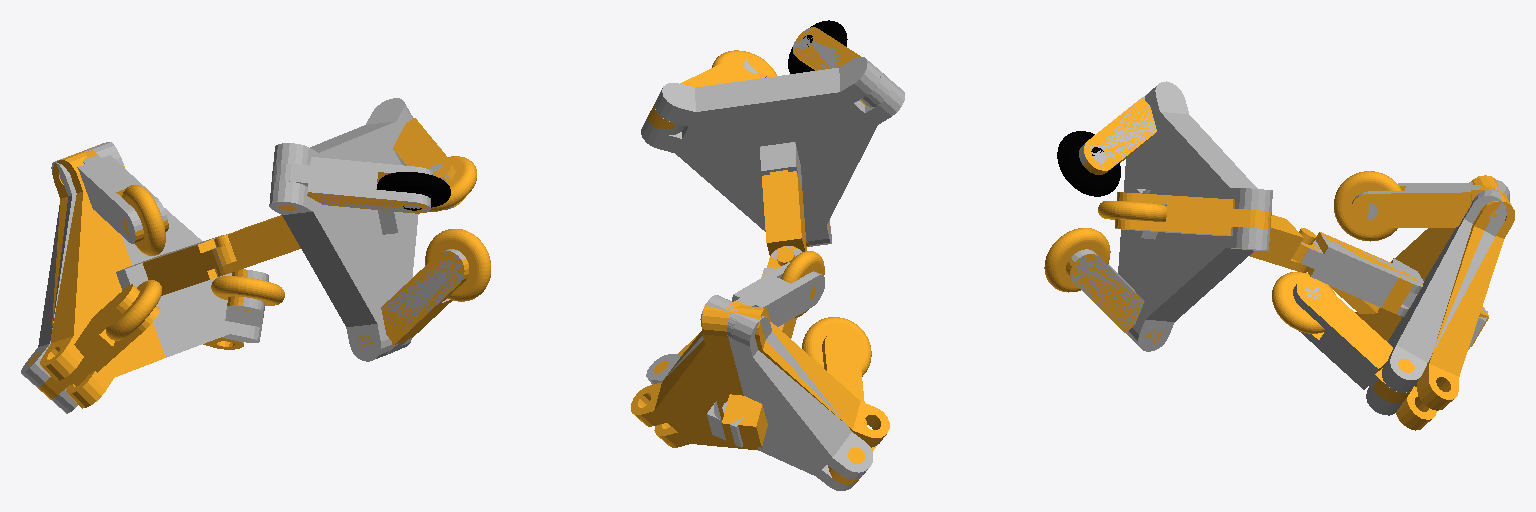
--- Facts derived from the render (not from the file) ---
The picture shows the robot from 3 angles, left to right: view 1: azimuth 30°, elevation 25°; view 2: azimuth 150°, elevation 25°; view 3: azimuth 270°, elevation 25°; orthographic projection.
Robot: robot_description — 31 links, 30 joints (23 revolute, 6 continuous, 1 fixed); root link base_link; default pose: all joints at 0.
Links seen in each view (by area): view 1: base_up, sworzen5, sworzen1, base_link, ramie1_sworzen, sworzen_ramie4, ramie5, ramie_ruch2, ramie_ruch1, ramie2, kolo2, ramie3 (+8 smaller); view 2: base_up, base_link, sworzen5, sworzen1, sworzen_ramie4, ramie_ruch1, ramie3, kolo5, ramie5, ramie1, sworzen_ramie5, ramie1_sworzen (+3 smaller); view 3: base_up, base_link, sworzen1, sworzen5, ramie3, ramie4, sworzen_ramie_ruch2, ramie6, sworzen_ramie6, kolo4, kolo2, kolo1 (+9 smaller).
Boxes of the visible links, <box> form: base_up: <box>40,143,243,408</box>; sworzen5: <box>21,142,261,413</box>; sworzen1: <box>269,98,408,358</box>; base_link: <box>269,102,418,361</box>; ramie1_sworzen: <box>271,157,433,212</box>; sworzen_ramie4: <box>77,149,167,243</box>; ramie5: <box>27,284,159,399</box>; ramie_ruch2: <box>138,235,236,295</box>; ramie_ruch1: <box>216,215,300,276</box>; ramie2: <box>358,251,468,351</box>; kolo2: <box>425,229,490,301</box>; ramie3: <box>393,118,465,206</box>; base_up: <box>631,304,889,451</box>; base_link: <box>641,57,904,246</box>; sworzen5: <box>646,295,872,490</box>; sworzen1: <box>641,60,904,231</box>; sworzen_ramie4: <box>724,262,824,337</box>; ramie_ruch1: <box>762,158,806,250</box>; ramie3: <box>648,54,768,128</box>; kolo5: <box>802,317,871,376</box>; ramie5: <box>822,329,865,484</box>; ramie1: <box>793,27,875,106</box>; sworzen_ramie5: <box>822,329,866,484</box>; ramie1_sworzen: <box>793,28,891,107</box>; base_up: <box>1355,175,1514,430</box>; base_link: <box>1128,81,1266,345</box>; sworzen1: <box>1118,86,1272,351</box>; sworzen5: <box>1366,180,1509,415</box>; ramie3: <box>1115,192,1271,249</box>; ramie4: <box>1351,186,1499,228</box>; sworzen_ramie_ruch2: <box>1301,236,1422,316</box>; ramie6: <box>1297,277,1414,402</box>; sworzen_ramie6: <box>1293,284,1406,392</box>; kolo4: <box>1334,171,1401,241</box>; kolo2: <box>1044,228,1110,292</box>; kolo1: <box>1057,131,1120,196</box>.
Size in the robot's own frame: 0.2983 by 0.3894 by 0.2969 metres.
Meshes: 31 distinct files referenced, 31 mesh visuals loaded (31 binary STL).

robot.urdf — robot_description:
<robot
  name="robot_description">
  <link
    name="base_link">
    <inertial>
      <origin
        xyz="0.078275 -0.034869 -0.0048269"
        rpy="0 0 0" />
      <mass
        value="0.65449" />
      <inertia
        ixx="7.9164E-06"
        ixy="-1.7628E-06"
        ixz="-3.9464E-06"
        iyy="9.5004E-06"
        iyz="-2.9238E-06"
        izz="4.1674E-06" />
    </inertial>
    <visual>
      <origin
        xyz="0 0 0"
        rpy="0 0 0" />
      <geometry>
        <mesh
          filename="package://robot_description/meshes/base_link.STL" />
      </geometry>
      <material
        name="">
        <color
          rgba="0.74902 0.74902 0.74902 1" />
      </material>
    </visual>
    <collision>
      <origin
        xyz="0 0 0"
        rpy="0 0 0" />
      <geometry>
        <mesh
          filename="package://robot_description/meshes/base_link.STL" />
      </geometry>
    </collision>
  </link>
  <link
    name="sworzen1">
    <inertial>
      <origin
        xyz="-0.00072575 0.00079945 0.0011536"
        rpy="0 0 0" />
      <mass
        value="0.66332" />
      <inertia
        ixx="7.6167E-05"
        ixy="7.7219E-07"
        ixz="-3.8815E-05"
        iyy="8.8837E-05"
        iyz="6.1173E-07"
        izz="3.3447E-05" />
    </inertial>
    <visual>
      <origin
        xyz="0 0 0"
        rpy="0 0 0" />
      <geometry>
        <mesh
          filename="package://robot_description/meshes/sworzen1.STL" />
      </geometry>
      <material
        name="">
        <color
          rgba="0.74902 0.74902 0.74902 1" />
      </material>
    </visual>
    <collision>
      <origin
        xyz="0 0 0"
        rpy="0 0 0" />
      <geometry>
        <mesh
          filename="package://robot_description/meshes/sworzen1.STL" />
      </geometry>
    </collision>
  </link>
  <joint
    name="sworzen1_joint"
    type="revolute">
    <origin
      xyz="0.078656 0.0046714 -0.033295"
      rpy="-1.0935 -1.209 1.6195" />
    <parent
      link="base_link" />
    <child
      link="sworzen1" />
    <axis
      xyz="0 0 0" />
    <limit
      lower="-1.57"
      upper="1.57"
      effort="0"
      velocity="0" />
  </joint>
  <link
    name="ramie1">
    <inertial>
      <origin
        xyz="0.039116 -0.016671 0.025"
        rpy="0 0 0" />
      <mass
        value="0.083887" />
      <inertia
        ixx="7.3546E-06"
        ixy="6.4402E-06"
        ixz="-2.9996E-18"
        iyy="1.9721E-05"
        iyz="1.2714E-18"
        izz="1.7856E-05" />
    </inertial>
    <visual>
      <origin
        xyz="0 0 0"
        rpy="0 0 0" />
      <geometry>
        <mesh
          filename="package://robot_description/meshes/ramie1.STL" />
      </geometry>
      <material
        name="">
        <color
          rgba="1 0.70196 0.18039 1" />
      </material>
    </visual>
    <collision>
      <origin
        xyz="0 0 0"
        rpy="0 0 0" />
      <geometry>
        <mesh
          filename="package://robot_description/meshes/ramie1.STL" />
      </geometry>
    </collision>
  </link>
  <joint
    name="ramie1_joint"
    type="revolute">
    <origin
      xyz="0.028349 0 0.099103"
      rpy="-2.3896 0.81672 -2.2328" />
    <parent
      link="sworzen1" />
    <child
      link="ramie1" />
    <axis
      xyz="0 0 0" />
    <limit
      lower="-1.57"
      upper="1.57"
      effort="0"
      velocity="0" />
  </joint>
  <link
    name="ramie1_sworzen">
    <inertial>
      <origin
        xyz="0.015 0.050989 -1.266E-14"
        rpy="0 0 0" />
      <mass
        value="0.080353" />
      <inertia
        ixx="1.8244E-05"
        ixy="-5.1486E-16"
        ixz="-7.0107E-17"
        iyy="4.6099E-06"
        iyz="-1.4312E-16"
        izz="1.3634E-05" />
    </inertial>
    <visual>
      <origin
        xyz="0 0 0"
        rpy="0 0 0" />
      <geometry>
        <mesh
          filename="package://robot_description/meshes/ramie1_sworzen.STL" />
      </geometry>
      <material
        name="">
        <color
          rgba="0.74902 0.74902 0.74902 1" />
      </material>
    </visual>
    <collision>
      <origin
        xyz="0 0 0"
        rpy="0 0 0" />
      <geometry>
        <mesh
          filename="package://robot_description/meshes/ramie1_sworzen.STL" />
      </geometry>
    </collision>
  </link>
  <joint
    name="ramie1_sworzen_joint"
    type="revolute">
    <origin
      xyz="0.005881 0.013799 0.025"
      rpy="-3.3307E-16 -9.992E-16 -1.9737" />
    <parent
      link="ramie1" />
    <child
      link="ramie1_sworzen" />
    <axis
      xyz="0 0 0" />
    <limit
      lower="-1.57"
      upper="1.57"
      effort="0"
      velocity="0" />
  </joint>
  <link
    name="kolo1">
    <inertial>
      <origin
        xyz="0.0075 -1.1102E-16 1.3878E-16"
        rpy="0 0 0" />
      <mass
        value="0.040766" />
      <inertia
        ixx="9.7492E-33"
        ixy="-3.8705E-32"
        ixz="4.7429E-32"
        iyy="3.903E-31"
        iyz="4.7755E-33"
        izz="3.8835E-31" />
    </inertial>
    <visual>
      <origin
        xyz="0 0 0"
        rpy="0 0 0" />
      <geometry>
        <mesh
          filename="package://robot_description/meshes/kolo1.STL" />
      </geometry>
      <material
        name="">
        <color
          rgba="0.019608 0.019608 0.019608 1" />
      </material>
    </visual>
    <collision>
      <origin
        xyz="0 0 0"
        rpy="0 0 0" />
      <geometry>
        <mesh
          filename="package://robot_description/meshes/kolo1.STL" />
      </geometry>
    </collision>
  </link>
  <joint
    name="kolo1_joint"
    type="continuous">
    <origin
      xyz="0.015 0.1 -0.0075"
      rpy="1.2654 -1.5708 0" />
    <parent
      link="ramie1_sworzen" />
    <child
      link="kolo1" />
    <axis
      xyz="0 0 0" />
  </joint>
  <link
    name="sworzen2">
    <inertial>
      <origin
        xyz="-0.00272380950321219 0.000799447417495533 2.44942954807925E-14"
        rpy="0 0 0" />
      <mass
        value="0.663324587071708" />
      <inertia
        ixx="1.0781283135998E-05"
        ixy="-2.87368565427112E-07"
        ixz="2.62257705854166E-16"
        iyy="8.51479121796059E-05"
        iyz="-9.3770274206019E-16"
        izz="9.51428553386611E-05" />
    </inertial>
    <visual>
      <origin
        xyz="0 0 0"
        rpy="0 0 0" />
      <geometry>
        <mesh
          filename="package://robot_description/meshes/sworzen2.STL" />
      </geometry>
      <material
        name="">
        <color
          rgba="0.749019607843137 0.749019607843137 0.749019607843137 1" />
      </material>
    </visual>
    <collision>
      <origin
        xyz="0 0 0"
        rpy="0 0 0" />
      <geometry>
        <mesh
          filename="package://robot_description/meshes/sworzen2.STL" />
      </geometry>
    </collision>
  </link>
  <joint
    name="sworzen2_joint"
    type="revolute">
    <origin
      xyz="0.078656 0.0046714 -0.033295"
      rpy="-1.0935 -1.209 1.6195" />
    <parent
      link="base_link" />
    <child
      link="sworzen2" />
    <axis
      xyz="0 0 0" />
    <limit
      lower="-1.57"
      upper="1.57"
      effort="0"
      velocity="0" />
  </joint>
  <link
    name="ramie2">
    <inertial>
      <origin
        xyz="0.0421192530367286 -0.00582961002139445 0.025000000000007"
        rpy="0 0 0" />
      <mass
        value="0.0838871669414958" />
      <inertia
        ixx="4.94549577563115E-06"
        ixy="2.42492929143536E-06"
        ixz="-2.93274570074961E-18"
        iyy="2.21301154817376E-05"
        iyz="4.03611199366674E-19"
        izz="1.78558752997074E-05" />
    </inertial>
    <visual>
      <origin
        xyz="0 0 0"
        rpy="0 0 0" />
      <geometry>
        <mesh
          filename="package://robot_description/meshes/ramie2.STL" />
      </geometry>
      <material
        name="">
        <color
          rgba="1 0.701960784313725 0.180392156862745 1" />
      </material>
    </visual>
    <collision>
      <origin
        xyz="0 0 0"
        rpy="0 0 0" />
      <geometry>
        <mesh
          filename="package://robot_description/meshes/ramie2.STL" />
      </geometry>
    </collision>
  </link>
  <joint
    name="ramie2_joint"
    type="revolute">
    <origin
      xyz="-0.1 0 -0.025"
      rpy="3.8858E-16 2.498E-16 -0.89513" />
    <parent
      link="sworzen2" />
    <child
      link="ramie2" />
    <axis
      xyz="0 0 0" />
    <limit
      lower="-1.57"
      upper="1.57"
      effort="0"
      velocity="0" />
  </joint>
  <link
    name="ramie2_sworzen">
    <inertial>
      <origin
        xyz="0.0149999999998696 0.0509887247958938 7.81041897823798E-14"
        rpy="0 0 0" />
      <mass
        value="0.0803528752062073" />
      <inertia
        ixx="1.82440178904883E-05"
        ixy="-5.25535980530655E-16"
        ixz="1.69313204068425E-15"
        iyy="4.60986798277215E-06"
        iyz="2.91141635234656E-16"
        izz="1.36341499136656E-05" />
    </inertial>
    <visual>
      <origin
        xyz="0 0 0"
        rpy="0 0 0" />
      <geometry>
        <mesh
          filename="package://robot_description/meshes/ramie2_sworzen.STL" />
      </geometry>
      <material
        name="">
        <color
          rgba="0.749019607843137 0.749019607843137 0.749019607843137 1" />
      </material>
    </visual>
    <collision>
      <origin
        xyz="0 0 0"
        rpy="0 0 0" />
      <geometry>
        <mesh
          filename="package://robot_description/meshes/ramie2_sworzen.STL" />
      </geometry>
    </collision>
  </link>
  <joint
    name="ramie2_sworzen_joint"
    type="revolute">
    <origin
      xyz="0.0020565 0.014858 0.025"
      rpy="4.4409E-16 -1.0547E-15 -1.7083" />
    <parent
      link="ramie2" />
    <child
      link="ramie2_sworzen" />
    <axis
      xyz="0 0 0" />
    <limit
      lower="-1.57"
      upper="1.57"
      effort="0"
      velocity="0" />
  </joint>
  <link
    name="kolo2">
    <inertial>
      <origin
        xyz="3.95516952522712E-15 3.99680288865056E-15 0.0150000000000207"
        rpy="0 0 0" />
      <mass
        value="0.0407655519524368" />
      <inertia
        ixx="2.69854716272748E-30"
        ixy="-9.61630206689141E-32"
        ixz="-4.96191017407152E-31"
        iyy="2.69552169443467E-30"
        iyz="-5.04057980394581E-31"
        izz="1.92354047984905E-31" />
    </inertial>
    <visual>
      <origin
        xyz="0 0 0"
        rpy="0 0 0" />
      <geometry>
        <mesh
          filename="package://robot_description/meshes/kolo2.STL" />
      </geometry>
      <material
        name="">
        <color
          rgba="1 0.701960784313725 0.180392156862745 1" />
      </material>
    </visual>
    <collision>
      <origin
        xyz="0 0 0"
        rpy="0 0 0" />
      <geometry>
        <mesh
          filename="package://robot_description/meshes/kolo2.STL" />
      </geometry>
    </collision>
  </link>
  <joint
    name="kolo2_joint"
    type="continuous">
    <origin
      xyz="0.015 0.1 -0.015"
      rpy="-6.4948E-15 1.3323E-15 -2.0595" />
    <parent
      link="ramie2_sworzen" />
    <child
      link="kolo2" />
    <axis
      xyz="0 0 0" />
  </joint>
  <link
    name="sworzen3">
    <inertial>
      <origin
        xyz="-0.000725753910875128 0.00079944741749554 -0.00115357793406713"
        rpy="0 0 0" />
      <mass
        value="0.663324587071708" />
      <inertia
        ixx="7.61665392518774E-05"
        ixy="7.72186584742255E-07"
        ixz="3.88151747695803E-05"
        iyy="8.88371095580954E-05"
        iyz="-6.11734452109273E-07"
        izz="3.34467966012712E-05" />
    </inertial>
    <visual>
      <origin
        xyz="0 0 0"
        rpy="0 0 0" />
      <geometry>
        <mesh
          filename="package://robot_description/meshes/sworzen3.STL" />
      </geometry>
      <material
        name="">
        <color
          rgba="0.749019607843137 0.749019607843137 0.749019607843137 1" />
      </material>
    </visual>
    <collision>
      <origin
        xyz="0 0 0"
        rpy="0 0 0" />
      <geometry>
        <mesh
          filename="package://robot_description/meshes/sworzen3.STL" />
      </geometry>
    </collision>
  </link>
  <joint
    name="sworzen3_joint"
    type="revolute">
    <origin
      xyz="0.078656 0.0046714 -0.033295"
      rpy="-1.0935 -1.209 1.6195" />
    <parent
      link="base_link" />
    <child
      link="sworzen3" />
    <axis
      xyz="0 0 0" />
    <limit
      lower="-1.57"
      upper="1.57"
      effort="0"
      velocity="0" />
  </joint>
  <link
    name="ramie3">
    <inertial>
      <origin
        xyz="0.036910735631314 0.021109557658291 0.0250000000000001"
        rpy="0 0 0" />
      <mass
        value="0.0838871669414958" />
      <inertia
        ixx="9.01072421641597E-06"
        ixy="-7.69503765851921E-06"
        ixz="1.64112633530521E-21"
        iyy="1.80648870409523E-05"
        iyz="-1.95082275664506E-20"
        izz="1.78558752997069E-05" />
    </inertial>
    <visual>
      <origin
        xyz="0 0 0"
        rpy="0 0 0" />
      <geometry>
        <mesh
          filename="package://robot_description/meshes/ramie3.STL" />
      </geometry>
      <material
        name="">
        <color
          rgba="1 0.701960784313725 0.180392156862745 1" />
      </material>
    </visual>
    <collision>
      <origin
        xyz="0 0 0"
        rpy="0 0 0" />
      <geometry>
        <mesh
          filename="package://robot_description/meshes/ramie3.STL" />
      </geometry>
    </collision>
  </link>
  <joint
    name="ramie3_joint"
    type="revolute">
    <origin
      xyz="0.028349 0 -0.099103"
      rpy="-0.41636 -0.99237 -2.6557" />
    <parent
      link="sworzen3" />
    <child
      link="ramie3" />
    <axis
      xyz="0 0 0" />
    <limit
      lower="-1.57"
      upper="1.57"
      effort="0"
      velocity="0" />
  </joint>
  <link
    name="ramie3_sworzen">
    <inertial>
      <origin
        xyz="0.0149999999998713 0.0509887247959366 -6.72517597166689E-14"
        rpy="0 0 0" />
      <mass
        value="0.0803528752062073" />
      <inertia
        ixx="1.82440178901915E-05"
        ixy="4.49395024231664E-16"
        ixz="-1.42210268662145E-15"
        iyy="4.60986798242077E-06"
        iyz="2.31757796428992E-16"
        izz="1.36341499135455E-05" />
    </inertial>
    <visual>
      <origin
        xyz="0 0 0"
        rpy="0 0 0" />
      <geometry>
        <mesh
          filename="package://robot_description/meshes/ramie3_sworzen.STL" />
      </geometry>
      <material
        name="">
        <color
          rgba="0.749019607843137 0.749019607843137 0.749019607843137 1" />
      </material>
    </visual>
    <collision>
      <origin
        xyz="0 0 0"
        rpy="0 0 0" />
      <geometry>
        <mesh
          filename="package://robot_description/meshes/ramie3_sworzen.STL" />
      </geometry>
    </collision>
  </link>
  <joint
    name="ramie3_sworzen_joint"
    type="revolute">
    <origin
      xyz="0.0074468 -0.013021 0.025"
      rpy="3.1416 1.1328E-15 2.0903" />
    <parent
      link="ramie3" />
    <child
      link="ramie3_sworzen" />
    <axis
      xyz="0 0 0" />
    <limit
      lower="-1.57"
      upper="1.57"
      effort="0"
      velocity="0" />
  </joint>
  <link
    name="kolo3">
    <inertial>
      <origin
        xyz="1.2490009027033E-16 -5.55111512312578E-17 0.015000000000006"
        rpy="0 0 0" />
      <mass
        value="0.0407655519524369" />
      <inertia
        ixx="2.18424991966655E-31"
        ixy="5.43344684551267E-35"
        ixz="-5.68002756726361E-33"
        iyy="2.18563956931501E-31"
        iyz="2.34986981921875E-33"
        izz="1.94384518096186E-34" />
    </inertial>
    <visual>
      <origin
        xyz="0 0 0"
        rpy="0 0 0" />
      <geometry>
        <mesh
          filename="package://robot_description/meshes/kolo3.STL" />
      </geometry>
      <material
        name="">
        <color
          rgba="1 0.701960784313725 0.180392156862745 1" />
      </material>
    </visual>
    <collision>
      <origin
        xyz="0 0 0"
        rpy="0 0 0" />
      <geometry>
        <mesh
          filename="package://robot_description/meshes/kolo3.STL" />
      </geometry>
    </collision>
  </link>
  <joint
    name="kolo3_joint"
    type="continuous">
    <origin
      xyz="0.015 0.1 0.015"
      rpy="-3.1416 3.1572E-16 0.26592" />
    <parent
      link="ramie3_sworzen" />
    <child
      link="kolo3" />
    <axis
      xyz="0 0 0" />
  </joint>
  <link
    name="ramie_gora">
    <inertial>
      <origin
        xyz="-0.00139922773445356 0.00104478083575374 2.46191955710628E-14"
        rpy="0 0 0" />
      <mass
        value="0.65979029533642" />
      <inertia
        ixx="1.52563131405609E-05"
        ixy="1.92510488351944E-07"
        ixz="2.85446503334673E-16"
        iyy="4.20152907733352E-07"
        iyz="-9.3342624476307E-16"
        izz="1.48901260713515E-05" />
    </inertial>
    <visual>
      <origin
        xyz="0 0 0"
        rpy="0 0 0" />
      <geometry>
        <mesh
          filename="package://robot_description/meshes/ramie_gora.STL" />
      </geometry>
      <material
        name="">
        <color
          rgba="0.749019607843137 0.749019607843137 0.749019607843137 1" />
      </material>
    </visual>
    <collision>
      <origin
        xyz="0 0 0"
        rpy="0 0 0" />
      <geometry>
        <mesh
          filename="package://robot_description/meshes/ramie_gora.STL" />
      </geometry>
    </collision>
  </link>
  <joint
    name="ramie_gora_joint"
    type="fixed">
    <origin
      xyz="0.078656 0.0046714 -0.033295"
      rpy="-1.0935 -1.209 1.6195" />
    <parent
      link="base_link" />
    <child
      link="ramie_gora" />
    <axis
      xyz="0 0 0" />
  </joint>
  <link
    name="ramie_ruch1">
    <inertial>
      <origin
        xyz="-0.0249903327813365 -0.0362608136338515 0.0150000000000007"
        rpy="0 0 0" />
      <mass
        value="0.0824025158054101" />
      <inertia
        ixx="7.44987118581313E-06"
        ixy="-5.13432384588075E-06"
        ixz="-5.61159327555974E-19"
        iyy="3.53848820970215E-06"
        iyz="-5.1086674631275E-19"
        izz="1.09883593954399E-05" />
    </inertial>
    <visual>
      <origin
        xyz="0 0 0"
        rpy="0 0 0" />
      <geometry>
        <mesh
          filename="package://robot_description/meshes/ramie_ruch1.STL" />
      </geometry>
      <material
        name="">
        <color
          rgba="1 0.701960784313725 0.180392156862745 1" />
      </material>
    </visual>
    <collision>
      <origin
        xyz="0 0 0"
        rpy="0 0 0" />
      <geometry>
        <mesh
          filename="package://robot_description/meshes/ramie_ruch1.STL" />
      </geometry>
    </collision>
  </link>
  <joint
    name="ramie_ruch1_joint"
    type="revolute">
    <origin
      xyz="0 0.03 -0.015"
      rpy="3.0531E-16 -9.4369E-16 -2.341" />
    <parent
      link="ramie_gora" />
    <child
      link="ramie_ruch1" />
    <axis
      xyz="0 0 0" />
    <limit
      lower="-1.57"
      upper="1.57"
      effort="0"
      velocity="0" />
  </joint>
  <link
    name="sworzen_ramie_ruch">
    <inertial>
      <origin
        xyz="0.0483232563870525 -0.0108797811524379 0.0156417163692359"
        rpy="0 0 0" />
      <mass
        value="0.0824025158054101" />
      <inertia
        ixx="6.73011138679717E-07"
        ixy="2.97885954380119E-06"
        ixz="-1.75700494717498E-07"
        iyy="1.32331318644119E-05"
        iyz="3.95582391133261E-08"
        izz="1.39014765177605E-05" />
    </inertial>
    <visual>
      <origin
        xyz="0 0 0"
        rpy="0 0 0" />
      <geometry>
        <mesh
          filename="package://robot_description/meshes/sworzen_ramie_ruch.STL" />
      </geometry>
      <material
        name="">
        <color
          rgba="1 0.701960784313725 0.180392156862745 1" />
      </material>
    </visual>
    <collision>
      <origin
        xyz="0 0 0"
        rpy="0 0 0" />
      <geometry>
        <mesh
          filename="package://robot_description/meshes/sworzen_ramie_ruch.STL" />
      </geometry>
    </collision>
  </link>
  <joint
    name="sworzen_ramie_ruch_joint"
    type="revolute">
    <origin
      xyz="-0.070166 -0.072813 0.015"
      rpy="1.5708 -0.22145 0.95279" />
    <parent
      link="ramie_ruch1" />
    <child
      link="sworzen_ramie_ruch" />
    <axis
      xyz="0 0 0" />
    <limit
      lower="-1.57"
      upper="1.57"
      effort="0"
      velocity="0" />
  </joint>
  <link
    name="ramie_ruch2">
    <inertial>
      <origin
        xyz="-0.046866107452409 -0.00291694979257964 0.0150000000000038"
        rpy="0 0 0" />
      <mass
        value="0.0871028752062767" />
      <inertia
        ixx="4.64936202969211E-06"
        ixy="-7.71708079081837E-07"
        ixz="5.05339856331916E-18"
        iyy="1.70002257134525E-05"
        iyz="-1.41115689012566E-18"
        izz="1.24469260129605E-05" />
    </inertial>
    <visual>
      <origin
        xyz="0 0 0"
        rpy="0 0 0" />
      <geometry>
        <mesh
          filename="package://robot_description/meshes/ramie_ruch2.STL" />
      </geometry>
      <material
        name="">
        <color
          rgba="1 0.701960784313725 0.180392156862745 1" />
      </material>
    </visual>
    <collision>
      <origin
        xyz="0 0 0"
        rpy="0 0 0" />
      <geometry>
        <mesh
          filename="package://robot_description/meshes/ramie_ruch2.STL" />
      </geometry>
    </collision>
  </link>
  <joint
    name="ramie_ruch2_joint"
    type="revolute">
    <origin
      xyz="0 0 0"
      rpy="-5.5511E-17 0 -5.5511E-17" />
    <parent
      link="sworzen_ramie_ruch" />
    <child
      link="ramie_ruch2" />
    <axis
      xyz="0 0 0" />
    <limit
      lower="-1.57"
      upper="1.57"
      effort="0"
      velocity="0" />
  </joint>
  <link
    name="sworzen_ramie_ruch2">
    <inertial>
      <origin
        xyz="0.0150000000000238 0.0530432047106913 -1.14491749414469E-15"
        rpy="0 0 0" />
      <mass
        value="0.0871028752062767" />
      <inertia
        ixx="1.70482568781018E-05"
        ixy="7.00898588029252E-18"
        ixz="-1.71778281703172E-18"
        iyy="4.60133086509205E-06"
        iyz="-3.26245327546834E-18"
        izz="1.24469260130097E-05" />
    </inertial>
    <visual>
      <origin
        xyz="0 0 0"
        rpy="0 0 0" />
      <geometry>
        <mesh
          filename="package://robot_description/meshes/sworzen_ramie_ruch2.STL" />
      </geometry>
      <material
        name="">
        <color
          rgba="0.749019607843137 0.749019607843137 0.749019607843137 1" />
      </material>
    </visual>
    <collision>
      <origin
        xyz="0 0 0"
        rpy="0 0 0" />
      <geometry>
        <mesh
          filename="package://robot_description/meshes/sworzen_ramie_ruch2.STL" />
      </geometry>
    </collision>
  </link>
  <joint
    name="sworzen_ramie_ruch2_joint"
    type="revolute">
    <origin
      xyz="0.0009318 -0.014971 0.015"
      rpy="3.7192E-15 3.4694E-16 1.633" />
    <parent
      link="ramie_ruch2" />
    <child
      link="sworzen_ramie_ruch2" />
    <axis
      xyz="0 0 0" />
    <limit
      lower="-1.57"
      upper="1.57"
      effort="0"
      velocity="0" />
  </joint>
  <link
    name="base_up">
    <inertial>
      <origin
        xyz="-0.00548186963420297 -0.0300670324386722 0.0136007722655658"
        rpy="0 0 0" />
      <mass
        value="0.659790295336421" />
      <inertia
        ixx="1.49194628856763E-05"
        ixy="-2.64353747783547E-06"
        ixz="-1.14360431468133E-07"
        iyy="9.0212690323311E-07"
        iyz="-6.27245636862381E-07"
        izz="1.57676239492155E-05" />
    </inertial>
    <visual>
      <origin
        xyz="0 0 0"
        rpy="0 0 0" />
      <geometry>
        <mesh
          filename="package://robot_description/meshes/base_up.STL" />
      </geometry>
      <material
        name="">
        <color
          rgba="1 0.701960784313725 0.180392156862745 1" />
      </material>
    </visual>
    <collision>
      <origin
        xyz="0 0 0"
        rpy="0 0 0" />
      <geometry>
        <mesh
          filename="package://robot_description/meshes/base_up.STL" />
      </geometry>
    </collision>
  </link>
  <joint
    name="base_up_joint"
    type="revolute">
    <origin
      xyz="0.015 0.1 -0.015"
      rpy="-2.2204E-16 -9.7838E-16 -2.9613" />
    <parent
      link="sworzen_ramie_ruch2" />
    <child
      link="base_up" />
    <axis
      xyz="0 0 0" />
    <limit
      lower="-1.57"
      upper="1.57"
      effort="0"
      velocity="0" />
  </joint>
  <link
    name="sworzen5">
    <inertial>
      <origin
        xyz="-0.000725753910907526 0.000799447417343724 0.00115357793405303"
        rpy="0 0 0" />
      <mass
        value="0.66332458707171" />
      <inertia
        ixx="7.61665392990585E-05"
        ixy="7.72186574160441E-07"
        ixz="-3.88151747709922E-05"
        iyy="8.88371095594185E-05"
        iyz="6.11734441355368E-07"
        izz="3.34467966517728E-05" />
    </inertial>
    <visual>
      <origin
        xyz="0 0 0"
        rpy="0 0 0" />
      <geometry>
        <mesh
          filename="package://robot_description/meshes/sworzen5.STL" />
      </geometry>
      <material
        name="">
        <color
          rgba="0.749019607843137 0.749019607843137 0.749019607843137 1" />
      </material>
    </visual>
    <collision>
      <origin
        xyz="0 0 0"
        rpy="0 0 0" />
      <geometry>
        <mesh
          filename="package://robot_description/meshes/sworzen5.STL" />
      </geometry>
    </collision>
  </link>
  <joint
    name="sworzen5_joint"
    type="revolute">
    <origin
      xyz="-0.0053809 -0.029513 0.015"
      rpy="0.18034 -1.5708 0" />
    <parent
      link="base_up" />
    <child
      link="sworzen5" />
    <axis
      xyz="0 0 0" />
    <limit
      lower="-1.57"
      upper="1.57"
      effort="0"
      velocity="0" />
  </joint>
  <link
    name="ramie5">
    <inertial>
      <origin
        xyz="0.0423384048700489 0.00393386609244251 0.0250000000000008"
        rpy="0 0 0" />
      <mass
        value="0.0838871669414958" />
      <inertia
        ixx="4.76270130362926E-06"
        ixy="-1.64487530340014E-06"
        ixz="-3.63059497016874E-19"
        iyy="2.23129099537389E-05"
        iyz="-3.47283508374263E-20"
        izz="1.78558752997068E-05" />
    </inertial>
    <visual>
      <origin
        xyz="0 0 0"
        rpy="0 0 0" />
      <geometry>
        <mesh
          filename="package://robot_description/meshes/ramie5.STL" />
      </geometry>
      <material
        name="">
        <color
          rgba="1 0.701960784313725 0.180392156862745 1" />
      </material>
    </visual>
    <collision>
      <origin
        xyz="0 0 0"
        rpy="0 0 0" />
      <geometry>
        <mesh
          filename="package://robot_description/meshes/ramie5.STL" />
      </geometry>
    </collision>
  </link>
  <joint
    name="ramie5_joint"
    type="revolute">
    <origin
      xyz="0.028349 0 0.099103"
      rpy="2.2611 0.66778 2.0435" />
    <parent
      link="sworzen5" />
    <child
      link="ramie5" />
    <axis
      xyz="0 0 0" />
    <limit
      lower="-1.57"
      upper="1.57"
      effort="0"
      velocity="0" />
  </joint>
  <link
    name="sworzen_ramie5">
    <inertial>
      <origin
        xyz="0.040277 -0.027926 0.015"
        rpy="0 0 0" />
      <mass
        value="0.080353" />
      <inertia
        ixx="9.0361E-06"
        ixy="6.3841E-06"
        ixz="2.3251E-19"
        iyy="1.3818E-05"
        iyz="-1.3711E-19"
        izz="1.3634E-05" />
    </inertial>
    <visual>
      <origin
        xyz="0 0 0"
        rpy="0 0 0" />
      <geometry>
        <mesh
          filename="package://robot_description/meshes/sworzen_ramie5.STL" />
      </geometry>
      <material
        name="">
        <color
          rgba="1 0.70196 0.18039 1" />
      </material>
    </visual>
    <collision>
      <origin
        xyz="0 0 0"
        rpy="0 0 0" />
      <geometry>
        <mesh
          filename="package://robot_description/meshes/sworzen_ramie5.STL" />
      </geometry>
    </collision>
  </link>
  <joint
    name="sworzen_ramie5_joint"
    type="revolute">
    <origin
      xyz="0.099571 0.0092516 0.01"
      rpy="-1.1137E-15 -6.1062E-15 -2.4427" />
    <parent
      link="ramie5" />
    <child
      link="sworzen_ramie5" />
    <axis
      xyz="0 0 0" />
    <limit
      lower="-1.57"
      upper="1.57"
      effort="0"
      velocity="0" />
  </joint>
  <link
    name="kolo5">
    <inertial>
      <origin
        xyz="0 -3.8858E-16 0.015"
        rpy="0 0 0" />
      <mass
        value="0.040766" />
      <inertia
        ixx="7.4613E-32"
        ixy="-4.6515E-35"
        ixz="2.9809E-34"
        iyy="7.3562E-32"
        iyz="9.0903E-33"
        izz="1.2003E-33" />
    </inertial>
    <visual>
      <origin
        xyz="0 0 0"
        rpy="0 0 0" />
      <geometry>
        <mesh
          filename="package://robot_description/meshes/kolo5.STL" />
      </geometry>
      <material
        name="">
        <color
          rgba="1 0.70196 0.18039 1" />
      </material>
    </visual>
    <collision>
      <origin
        xyz="0 0 0"
        rpy="0 0 0" />
      <geometry>
        <mesh
          filename="package://robot_description/meshes/kolo5.STL" />
      </geometry>
    </collision>
  </link>
  <joint
    name="kolo5_joint"
    type="continuous">
    <origin
      xyz="0 0 0"
      rpy="-3.4694E-17 0 -2.7756E-17" />
    <parent
      link="sworzen_ramie5" />
    <child
      link="kolo5" />
    <axis
      xyz="0 0 0" />
  </joint>
  <link
    name="sworzen6">
    <inertial>
      <origin
        xyz="-0.000725753910907401 0.000799447417343668 -0.00115357793413019"
        rpy="0 0 0" />
      <mass
        value="0.66332458707171" />
      <inertia
        ixx="7.61665392989381E-05"
        ixy="7.72186574162983E-07"
        ixz="3.88151747676223E-05"
        iyy="8.88371095593056E-05"
        iyz="-6.11734460754431E-07"
        izz="3.34467966517806E-05" />
    </inertial>
    <visual>
      <origin
        xyz="0 0 0"
        rpy="0 0 0" />
      <geometry>
        <mesh
          filename="package://robot_description/meshes/sworzen6.STL" />
      </geometry>
      <material
        name="">
        <color
          rgba="0.749019607843137 0.749019607843137 0.749019607843137 1" />
      </material>
    </visual>
    <collision>
      <origin
        xyz="0 0 0"
        rpy="0 0 0" />
      <geometry>
        <mesh
          filename="package://robot_description/meshes/sworzen6.STL" />
      </geometry>
    </collision>
  </link>
  <joint
    name="sworzen6_joint"
    type="revolute">
    <origin
      xyz="-0.0053809 -0.029513 0.015"
      rpy="0.18034 -1.5708 0" />
    <parent
      link="base_up" />
    <child
      link="sworzen6" />
    <axis
      xyz="0 0 0" />
    <limit
      lower="-1.57"
      upper="1.57"
      effort="0"
      velocity="0" />
  </joint>
  <link
    name="ramie6">
    <inertial>
      <origin
        xyz="0.0135555483689621 0.0403021455730355 0.0249999999999963"
        rpy="0 0 0" />
      <mass
        value="0.0838871669414958" />
      <inertia
        ixx="2.06510087697225E-05"
        ixy="-5.39540654201755E-06"
        ixz="4.69626829693306E-19"
        iyy="6.4246024876452E-06"
        iyz="1.46356705373702E-18"
        izz="1.78558752997064E-05" />
    </inertial>
    <visual>
      <origin
        xyz="0 0 0"
        rpy="0 0 0" />
      <geometry>
        <mesh
          filename="package://robot_description/meshes/ramie6.STL" />
      </geometry>
      <material
        name="">
        <color
          rgba="1 0.701960784313725 0.180392156862745 1" />
      </material>
    </visual>
    <collision>
      <origin
        xyz="0 0 0"
        rpy="0 0 0" />
      <geometry>
        <mesh
          filename="package://robot_description/meshes/ramie6.STL" />
      </geometry>
    </collision>
  </link>
  <joint
    name="ramie6_joint"
    type="revolute">
    <origin
      xyz="0.028349 0 -0.099103"
      rpy="0.80073 0.76958 0.97718" />
    <parent
      link="sworzen6" />
    <child
      link="ramie6" />
    <axis
      xyz="0 0 0" />
    <limit
      lower="-1.57"
      upper="1.57"
      effort="0"
      velocity="0" />
  </joint>
  <link
    name="sworzen_ramie6">
    <inertial>
      <origin
        xyz="0.0150000000001621 0.0509887247956134 4.79130624064794E-14"
        rpy="0 0 0" />
      <mass
        value="0.0803528752062072" />
      <inertia
        ixx="1.82440179038147E-05"
        ixy="7.09453091400929E-15"
        ixz="-1.14448312506143E-15"
        iyy="4.60986798281565E-06"
        iyz="2.25784361266277E-15"
        izz="1.36341499282439E-05" />
    </inertial>
    <visual>
      <origin
        xyz="0 0 0"
        rpy="0 0 0" />
      <geometry>
        <mesh
          filename="package://robot_description/meshes/sworzen_ramie6.STL" />
      </geometry>
      <material
        name="">
        <color
          rgba="0.749019607843137 0.749019607843137 0.749019607843137 1" />
      </material>
    </visual>
    <collision>
      <origin
        xyz="0 0 0"
        rpy="0 0 0" />
      <geometry>
        <mesh
          filename="package://robot_description/meshes/sworzen_ramie6.STL" />
      </geometry>
    </collision>
  </link>
  <joint
    name="sworzen_ramie6_joint"
    type="revolute">
    <origin
      xyz="0.014217 -0.004782 0.025"
      rpy="-3.1416 -3.8441E-15 2.8171" />
    <parent
      link="ramie6" />
    <child
      link="sworzen_ramie6" />
    <axis
      xyz="0 0 0" />
    <limit
      lower="-1.57"
      upper="1.57"
      effort="0"
      velocity="0" />
  </joint>
  <link
    name="kolo6">
    <inertial>
      <origin
        xyz="0 -5.55111512312578E-16 0.0150000000000092"
        rpy="0 0 0" />
      <mass
        value="0.0407655519524368" />
      <inertia
        ixx="5.12882701567285E-31"
        ixy="7.89950323301487E-36"
        ixz="-1.50053871853581E-34"
        iyy="5.10875970381657E-31"
        iyz="3.19631892626846E-32"
        izz="2.00742764055525E-33" />
    </inertial>
    <visual>
      <origin
        xyz="0 0 0"
        rpy="0 0 0" />
      <geometry>
        <mesh
          filename="package://robot_description/meshes/kolo6.STL" />
      </geometry>
      <material
        name="">
        <color
          rgba="1 0.701960784313725 0.180392156862745 1" />
      </material>
    </visual>
    <collision>
      <origin
        xyz="0 0 0"
        rpy="0 0 0" />
      <geometry>
        <mesh
          filename="package://robot_description/meshes/kolo6.STL" />
      </geometry>
    </collision>
  </link>
  <joint
    name="kolo6_joint"
    type="continuous">
    <origin
      xyz="0.015 0.1 -0.015"
      rpy="8.743E-16 7.2164E-16 -2.1766" />
    <parent
      link="sworzen_ramie6" />
    <child
      link="kolo6" />
    <axis
      xyz="0 0 0" />
  </joint>
  <link
    name="sworzen4">
    <inertial>
      <origin
        xyz="-0.00272380950324448 0.000799447417343668 -3.86080056813398E-14"
        rpy="0 0 0" />
      <mass
        value="0.66332458707171" />
      <inertia
        ixx="1.07812831831624E-05"
        ixy="-2.87368575806907E-07"
        ixz="-1.6378861166446E-15"
        iyy="8.51479121808228E-05"
        iyz="-9.6974582904823E-15"
        izz="9.51428553890734E-05" />
    </inertial>
    <visual>
      <origin
        xyz="0 0 0"
        rpy="0 0 0" />
      <geometry>
        <mesh
          filename="package://robot_description/meshes/sworzen4.STL" />
      </geometry>
      <material
        name="">
        <color
          rgba="0.749019607843137 0.749019607843137 0.749019607843137 1" />
      </material>
    </visual>
    <collision>
      <origin
        xyz="0 0 0"
        rpy="0 0 0" />
      <geometry>
        <mesh
          filename="package://robot_description/meshes/sworzen4.STL" />
      </geometry>
    </collision>
  </link>
  <joint
    name="sworzen4_joint"
    type="revolute">
    <origin
      xyz="-0.0053809 -0.029513 0.015"
      rpy="0.18034 -1.5708 0" />
    <parent
      link="base_up" />
    <child
      link="sworzen4" />
    <axis
      xyz="0 0 0" />
    <limit
      lower="-1.57"
      upper="1.57"
      effort="0"
      velocity="0" />
  </joint>
  <link
    name="ramie4">
    <inertial>
      <origin
        xyz="-0.0238602561956144 0.0351952270010182 0.0250000000000001"
        rpy="0 0 0" />
      <mass
        value="0.0838871669414958" />
      <inertia
        ixx="1.68432477220002E-05"
        ixy="8.29349885434848E-06"
        ixz="3.34578014165449E-20"
        iyy="1.02323635353691E-05"
        iyz="-1.65462592290207E-19"
        izz="1.7855875299708E-05" />
    </inertial>
    <visual>
      <origin
        xyz="0 0 0"
        rpy="0 0 0" />
      <geometry>
        <mesh
          filename="package://robot_description/meshes/ramie4.STL" />
      </geometry>
      <material
        name="">
        <color
          rgba="1 0.701960784313725 0.180392156862745 1" />
      </material>
    </visual>
    <collision>
      <origin
        xyz="0 0 0"
        rpy="0 0 0" />
      <geometry>
        <mesh
          filename="package://robot_description/meshes/ramie4.STL" />
      </geometry>
    </collision>
  </link>
  <joint
    name="ramie4_joint"
    type="revolute">
    <origin
      xyz="-0.1 0 -0.025"
      rpy="2.38E-15 -8.0491E-16 -1.1458" />
    <parent
      link="sworzen4" />
    <child
      link="ramie4" />
    <axis
      xyz="0 0 0" />
    <limit
      lower="-1.57"
      upper="1.57"
      effort="0"
      velocity="0" />
  </joint>
  <link
    name="sworzen_ramie4">
    <inertial>
      <origin
        xyz="0.0149999999997961 0.0509887247956492 4.39093206239249E-14"
        rpy="0 0 0" />
      <mass
        value="0.0803528752062073" />
      <inertia
        ixx="1.8244017900251E-05"
        ixy="-8.54913307691169E-15"
        ixz="1.42385116114793E-15"
        iyy="4.60986798601814E-06"
        iyz="1.76347002720116E-15"
        izz="1.36341499280187E-05" />
    </inertial>
    <visual>
      <origin
        xyz="0 0 0"
        rpy="0 0 0" />
      <geometry>
        <mesh
          filename="package://robot_description/meshes/sworzen_ramie4.STL" />
      </geometry>
      <material
        name="">
        <color
          rgba="0.749019607843137 0.749019607843137 0.749019607843137 1" />
      </material>
    </visual>
    <collision>
      <origin
        xyz="0 0 0"
        rpy="0 0 0" />
      <geometry>
        <mesh
          filename="package://robot_description/meshes/sworzen_ramie4.STL" />
      </geometry>
    </collision>
  </link>
  <joint
    name="sworzen_ramie4_joint"
    type="revolute">
    <origin
      xyz="0.012416 0.0084172 0.025"
      rpy="-3.1416 -1.3711E-14 -2.5458" />
    <parent
      link="ramie4" />
    <child
      link="sworzen_ramie4" />
    <axis
      xyz="0 0 0" />
    <limit
      lower="-1.57"
      upper="1.57"
      effort="0"
      velocity="0" />
  </joint>
  <link
    name="kolo4">
    <inertial>
      <origin
        xyz="5.5511E-17 -2.2204E-16 0.015"
        rpy="0 0 0" />
      <mass
        value="0.040766" />
      <inertia
        ixx="2.3594E-32"
        ixy="6.5009E-35"
        ixz="7.0252E-34"
        iyy="2.3402E-32"
        iyz="-2.205E-33"
        izz="2.3482E-34" />
    </inertial>
    <visual>
      <origin
        xyz="0 0 0"
        rpy="0 0 0" />
      <geometry>
        <mesh
          filename="package://robot_description/meshes/kolo4.STL" />
      </geometry>
      <material
        name="">
        <color
          rgba="1 0.70196 0.18039 1" />
      </material>
    </visual>
    <collision>
      <origin
        xyz="0 0 0"
        rpy="0 0 0" />
      <geometry>
        <mesh
          filename="package://robot_description/meshes/kolo4.STL" />
      </geometry>
    </collision>
  </link>
  <joint
    name="kolo4_joint"
    type="continuous">
    <origin
      xyz="0.015 0.1 0.015"
      rpy="3.1416 3.6082E-16 -0.13282" />
    <parent
      link="sworzen_ramie4" />
    <child
      link="kolo4" />
    <axis
      xyz="0 0 0" />
  </joint>
</robot>
